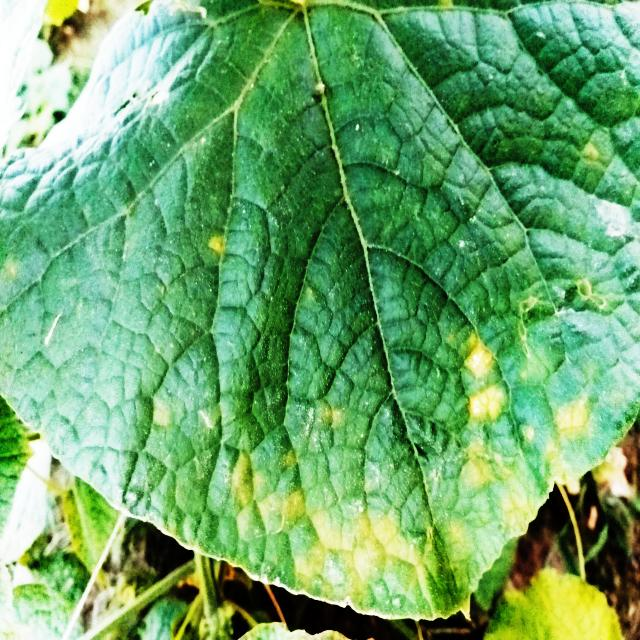Downy-Mildew: (0, 0, 640, 626)
